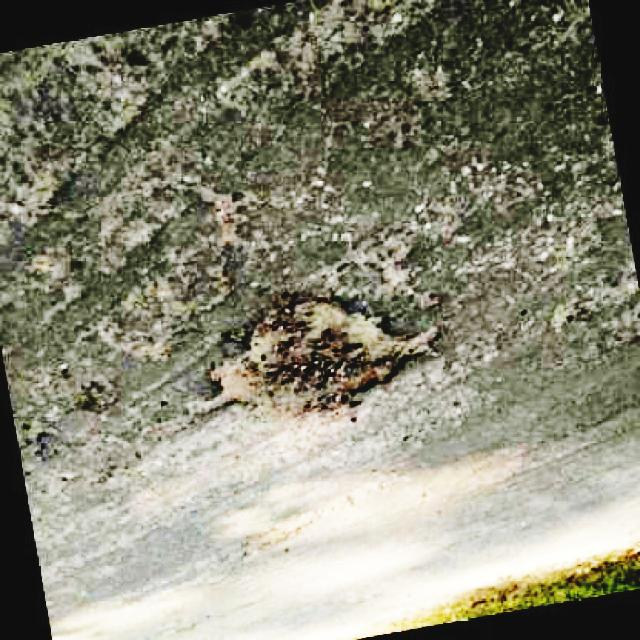pothole: (202, 297, 448, 423)
